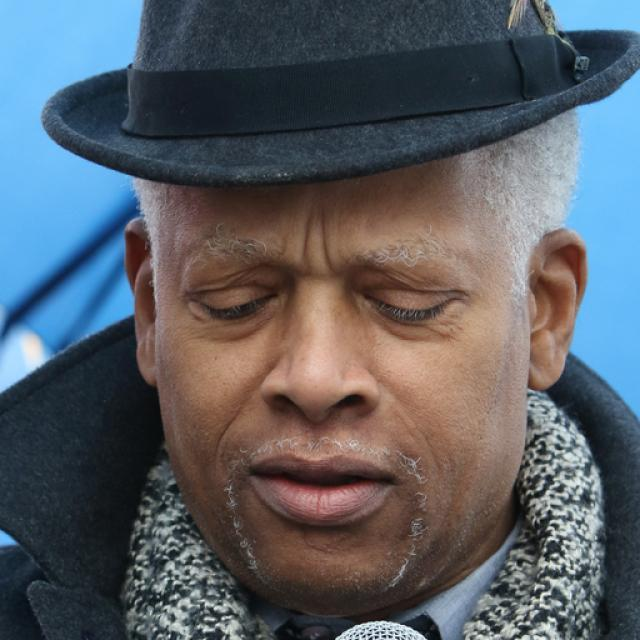anger: (150, 121, 526, 604)
